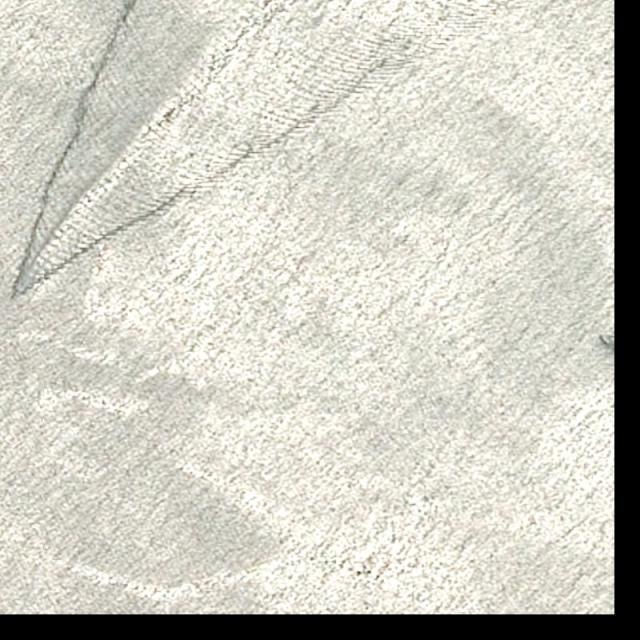ship: (6, 286, 23, 304), (598, 334, 612, 346)
